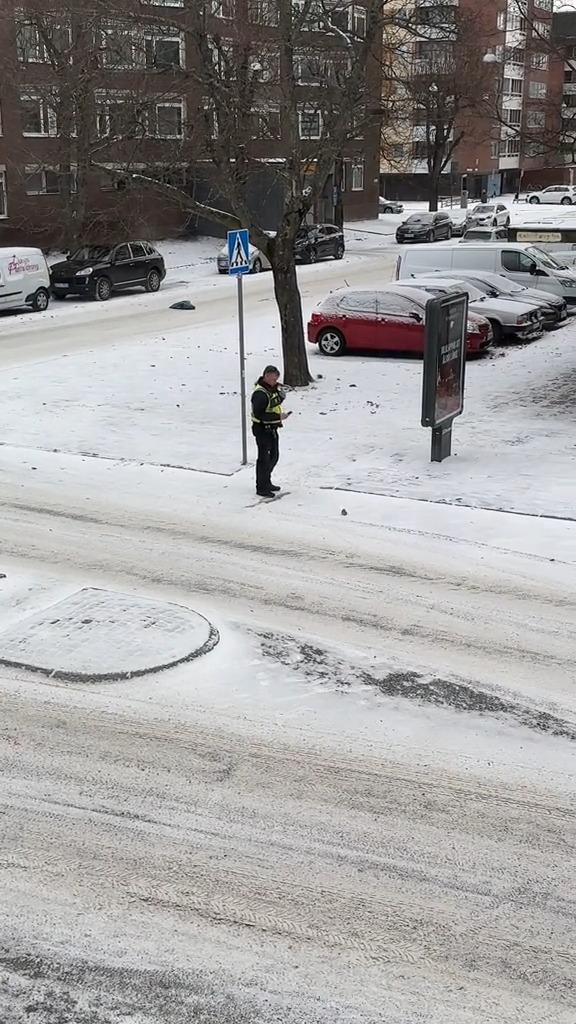parking-attendant: (251, 365, 289, 497)
